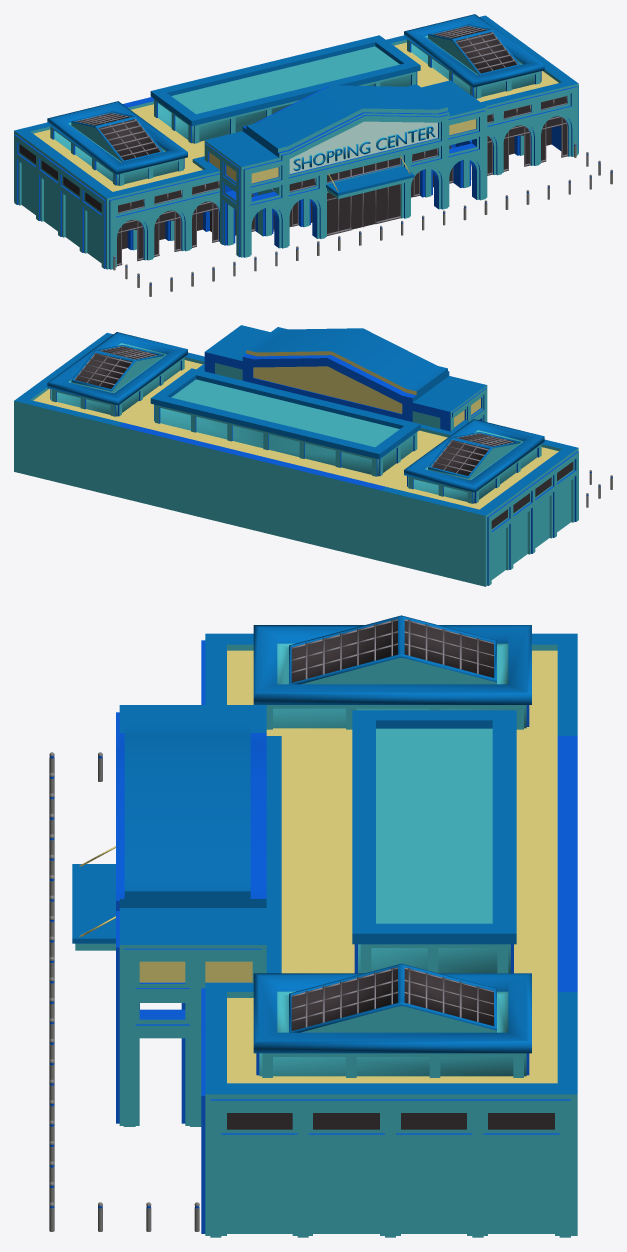
File: ShoppingCenterBuilding.glb
3 views of the same model, one above another, from view 1: azimuth 30°, elevation 25°; view 2: azimuth 150°, elevation 25°; view 3: azimuth 270°, elevation 25° (orthographic). The views are drawn at different scales.
Visible parts, largest first — view 1: ShoppingCenterBuilding; view 2: ShoppingCenterBuilding; view 3: ShoppingCenterBuilding.
Part boxes in pixels (x1,y1,x2,y2): ShoppingCenterBuilding: (14,14,612,296); ShoppingCenterBuilding: (14,325,612,586); ShoppingCenterBuilding: (49,615,577,1237).
Size of the model in its own units: 0.1811 by 0.0431 by 0.0872.
Materials: 1 (1 with a texture image).
